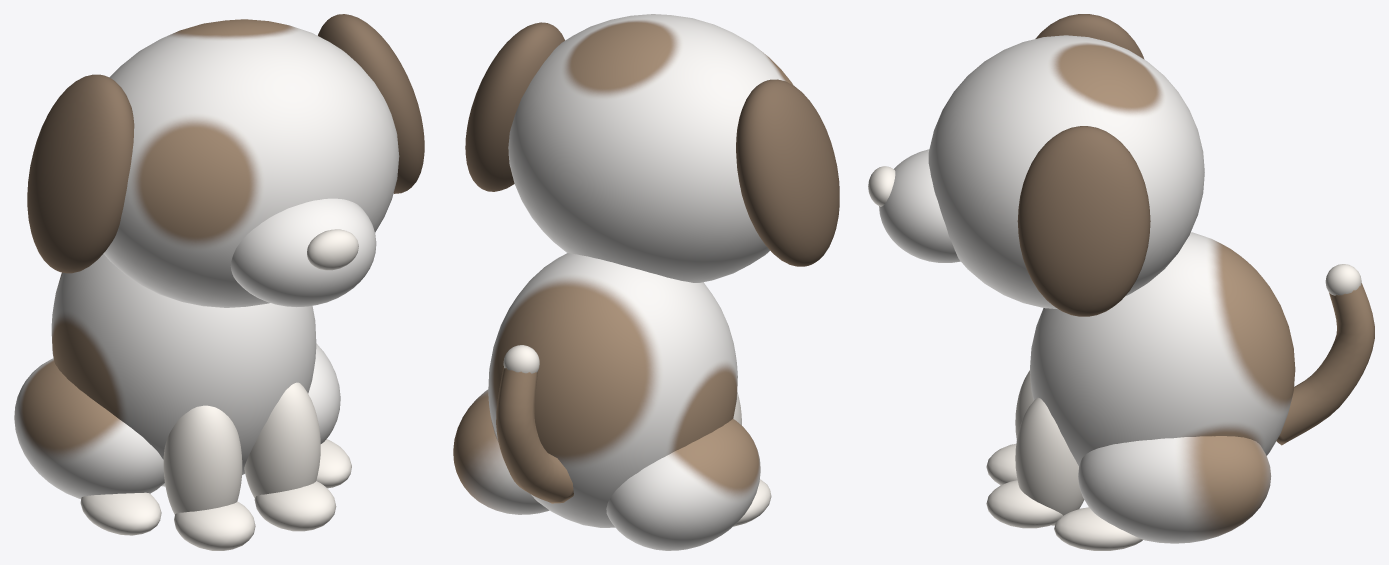
File: dog_no_face.glb
3 renders of one model, left to right at view 1: azimuth 30°, elevation 25°; view 2: azimuth 150°, elevation 25°; view 3: azimuth 270°, elevation 25°, orthographic. The views are drawn at different scales.
Visible parts, largest first — view 1: DogNoFace_Coat, DogNoFace_Ear_L, DogNoFace_FrontLeg_L, DogNoFace_Ear_R, DogNoFace_FrontLeg_R, DogNoFace_Paw_L, DogNoFace_Paw_R, DogNoFace_BackPaw_L, DogNoFace_Nose, DogNoFace_BackPaw_R; view 2: DogNoFace_Coat, DogNoFace_Ear_L, DogNoFace_Ear_R, DogNoFace_Tail, DogNoFace_TailTip, DogNoFace_BackPaw_L; view 3: DogNoFace_Coat, DogNoFace_Ear_R, DogNoFace_Tail, DogNoFace_FrontLeg_R, DogNoFace_BackPaw_R, DogNoFace_Paw_R, DogNoFace_Ear_L, DogNoFace_Paw_L, DogNoFace_TailTip, DogNoFace_Nose.
Boxes of the visible parts, box(x1,y1,x2,y2) form: DogNoFace_Coat: box(14, 19, 399, 498); DogNoFace_Ear_L: box(27, 74, 134, 273); DogNoFace_FrontLeg_L: box(163, 405, 242, 514); DogNoFace_Ear_R: box(318, 14, 424, 193); DogNoFace_FrontLeg_R: box(244, 382, 320, 498); DogNoFace_Paw_L: box(174, 501, 255, 550); DogNoFace_Paw_R: box(254, 481, 336, 531); DogNoFace_BackPaw_L: box(80, 492, 161, 535); DogNoFace_Nose: box(307, 229, 358, 270); DogNoFace_BackPaw_R: box(316, 439, 351, 488); DogNoFace_Coat: box(453, 14, 792, 550); DogNoFace_Ear_L: box(736, 79, 839, 266); DogNoFace_Ear_R: box(465, 22, 564, 191); DogNoFace_Tail: box(496, 366, 573, 503); DogNoFace_TailTip: box(503, 345, 539, 373); DogNoFace_BackPaw_L: box(733, 479, 771, 526); DogNoFace_Coat: box(879, 35, 1295, 543); DogNoFace_Ear_R: box(1017, 126, 1150, 316); DogNoFace_Tail: box(1276, 283, 1374, 445); DogNoFace_FrontLeg_R: box(1015, 397, 1084, 525); DogNoFace_BackPaw_R: box(1054, 507, 1142, 550); DogNoFace_Paw_R: box(986, 480, 1062, 528); DogNoFace_Ear_L: box(1035, 14, 1144, 59); DogNoFace_Paw_L: box(986, 444, 1017, 485); DogNoFace_TailTip: box(1325, 264, 1361, 295); DogNoFace_Nose: box(868, 166, 895, 206).
Size of the model in its own units: 0.3316 by 0.415 by 0.4199.
4 materials, 1 textured.
